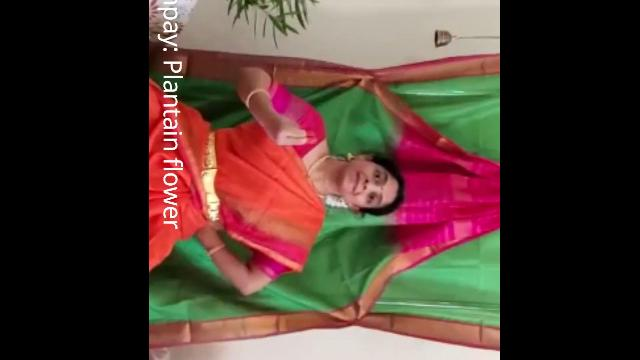mukul: (246, 92, 326, 156)
